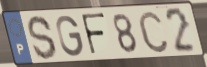2: (165, 6, 200, 56)
8: (112, 12, 139, 55)
C: (136, 9, 171, 55)
F: (80, 12, 108, 58)
G: (54, 14, 85, 59)
S: (25, 14, 59, 62)
